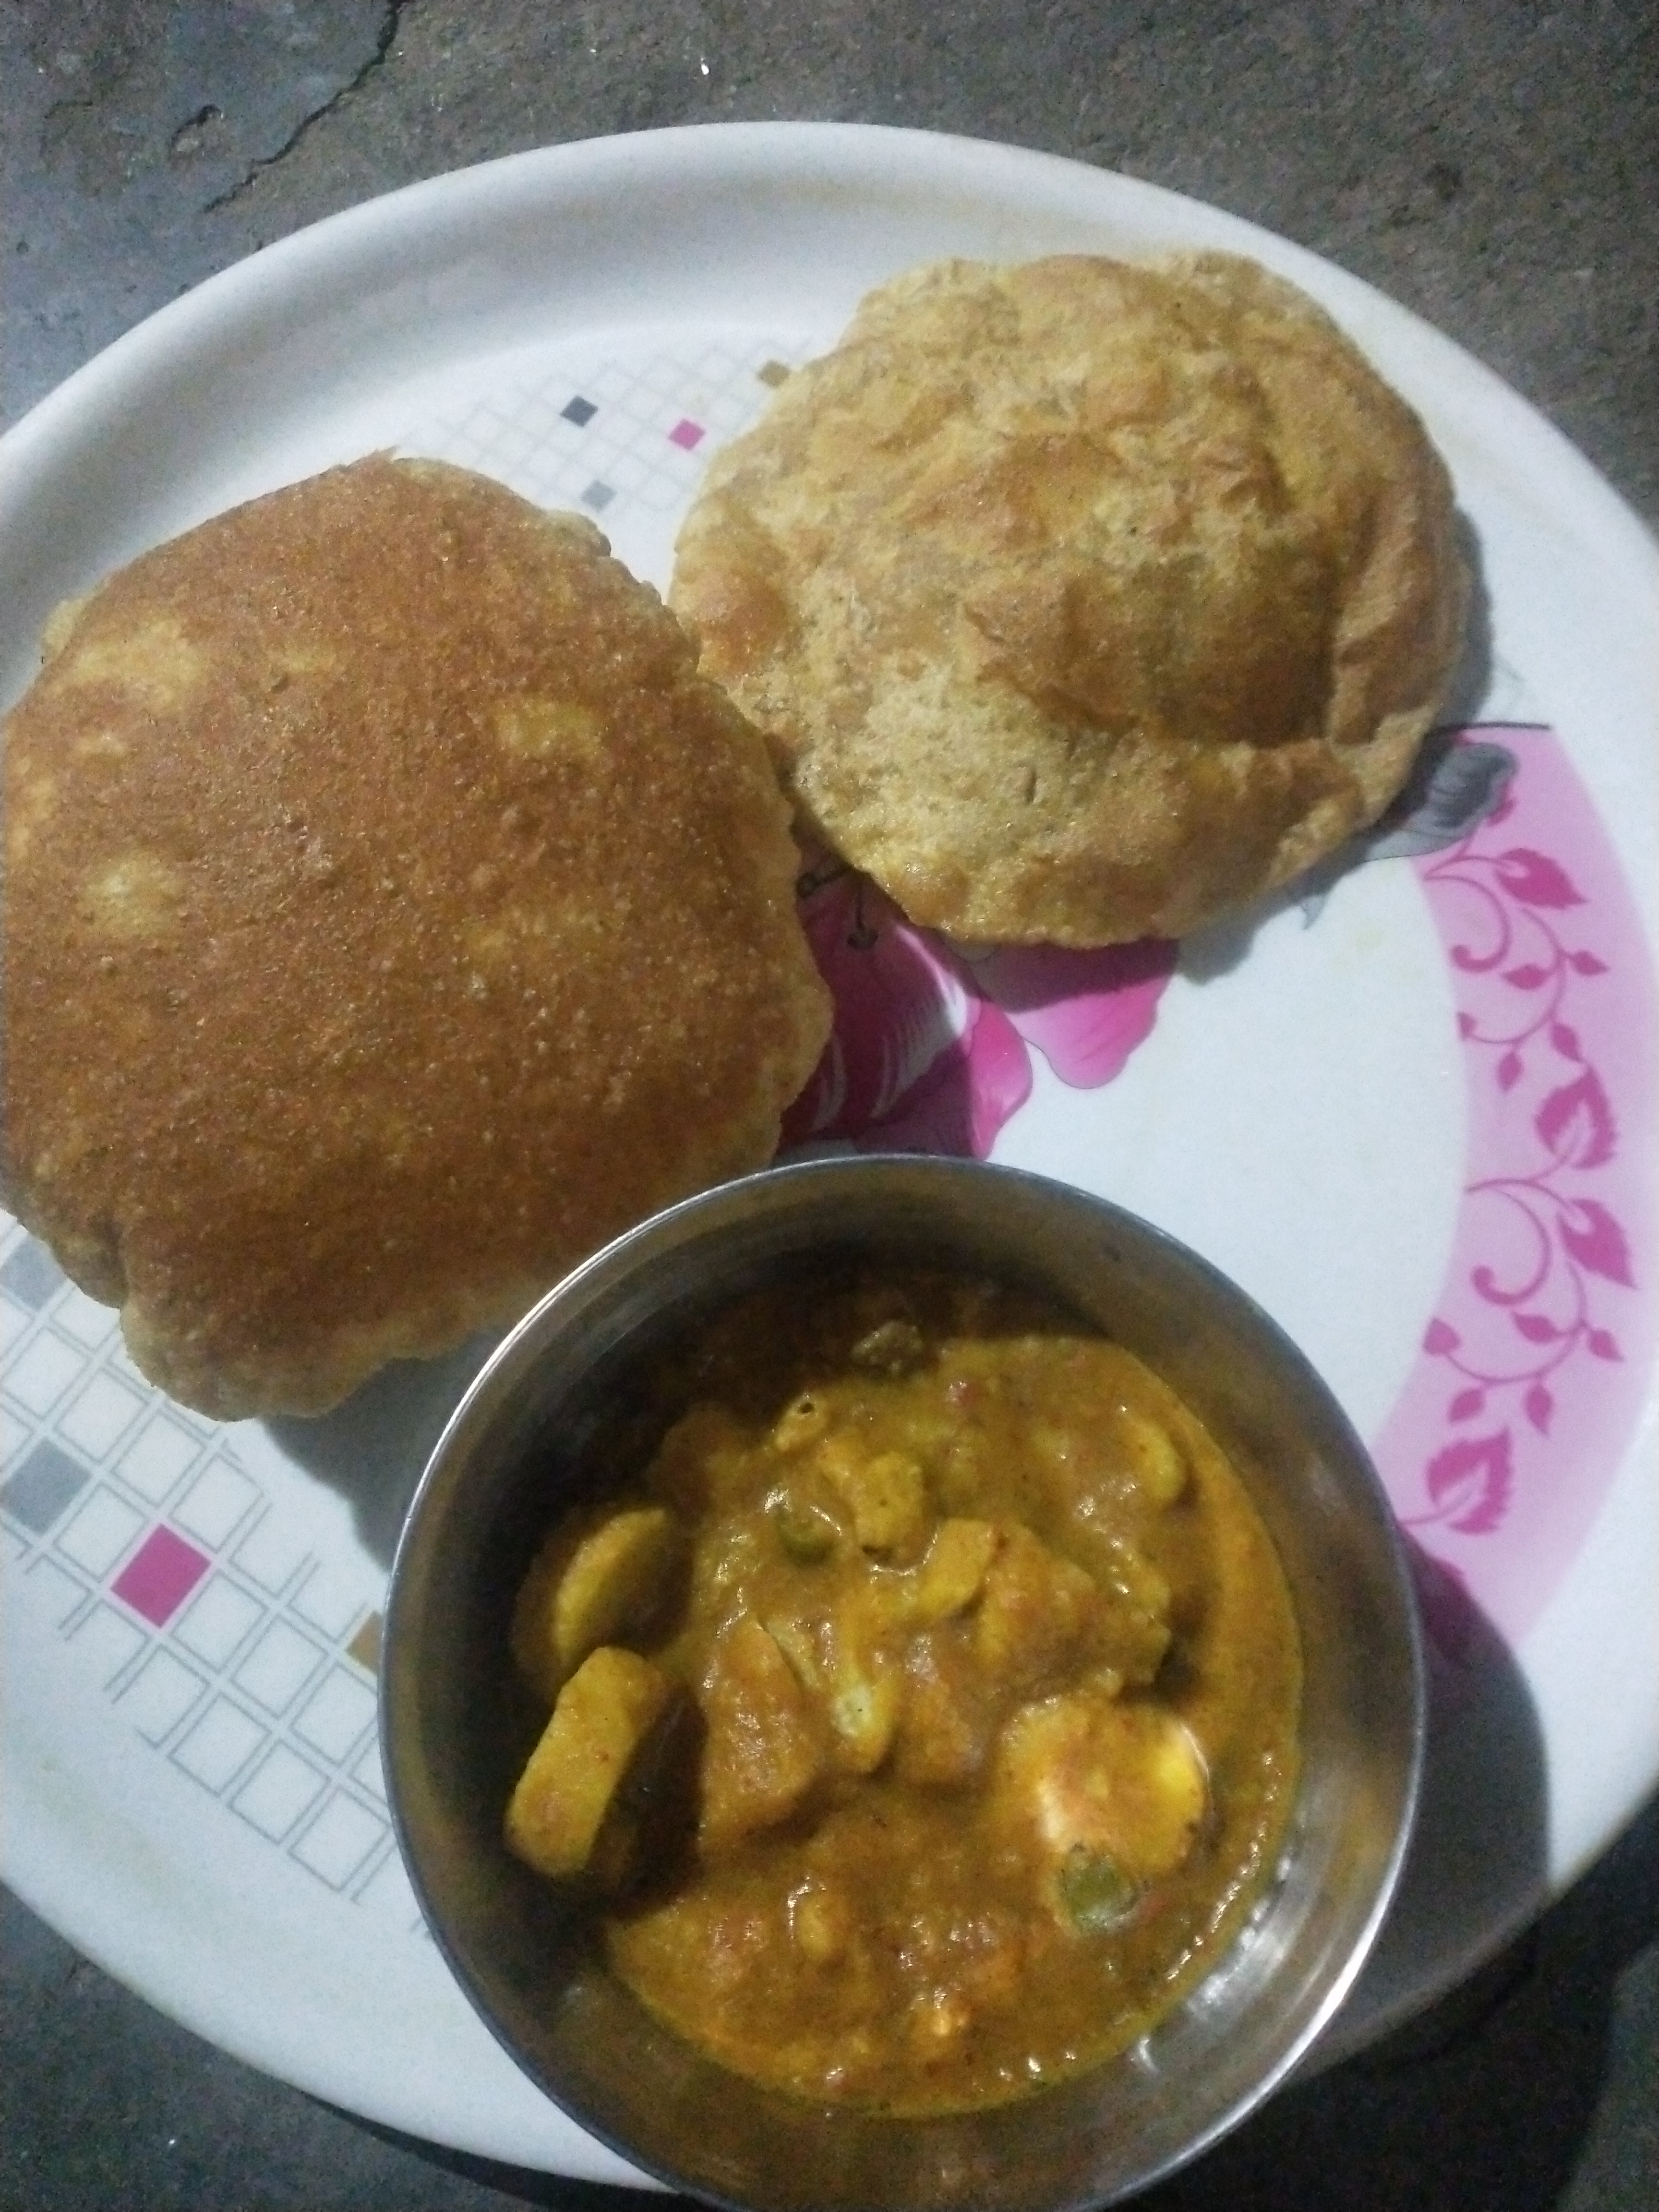food: (0, 233, 1485, 2149)
